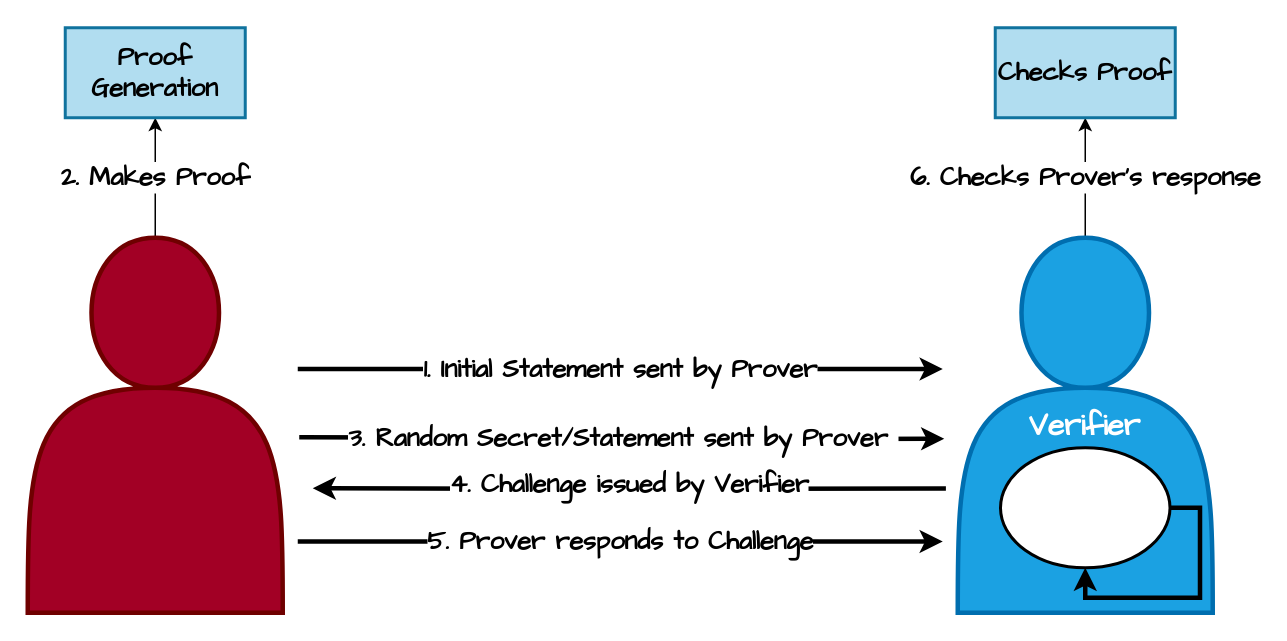
Image size: 1287x641. Some labels were removed from this diagram. Here are the shapes that lost their labels. From the top down, the centre of each, then its label:
(154,424): Prover
(1084,507): 7. Accept/Reject based on checks
